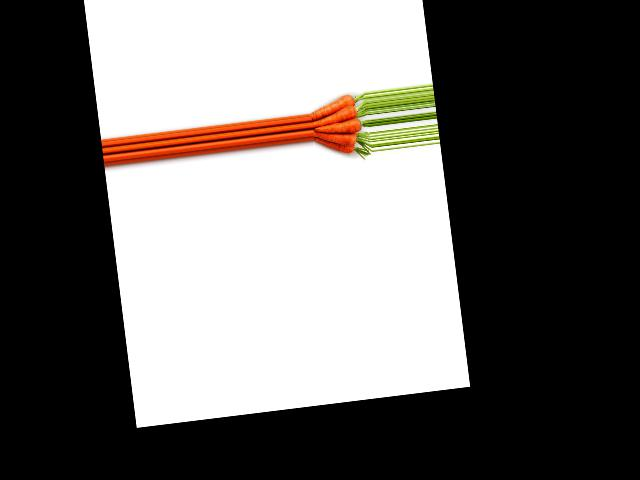carrot: (313, 132, 356, 162)
